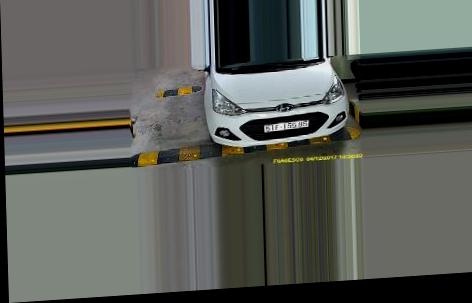License_Plate: (261, 118, 309, 135)
